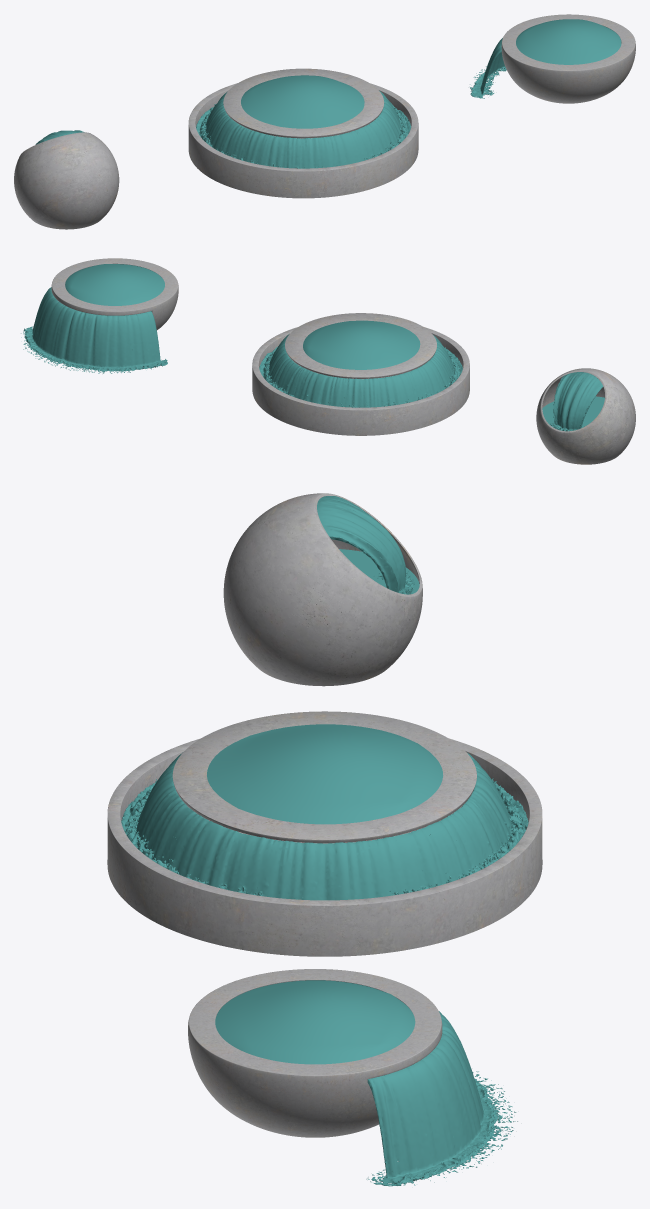
Rendered from waterfall-fountains.glb.
The picture shows the model from 3 angles, top to bottom: view 1: azimuth 30°, elevation 25°; view 2: azimuth 150°, elevation 25°; view 3: azimuth 270°, elevation 25°; orthographic projection. The views are drawn at different scales.
Visible parts, largest first — view 1: waterfall-fountains | Weathered concrete.001, waterfall-fountains | Pool water.002, waterfall-fountains | Pool water, waterfall-fountains | Pale stone basin, waterfall-fountains | Weathered concrete; view 2: waterfall-fountains | Pool water, waterfall-fountains | Pool water.002, waterfall-fountains | Pale stone basin, waterfall-fountains | Weathered concrete.001, waterfall-fountains | Weathered concrete, waterfall-fountains | Pool water.001; view 3: waterfall-fountains | Pool water, waterfall-fountains | Weathered concrete.001, waterfall-fountains | Pool water.002, waterfall-fountains | Pale stone basin, waterfall-fountains | Weathered concrete.
Part boxes in pixels (x1=…): waterfall-fountains | Weathered concrete.001: x1=223, y1=14, x2=635, y2=138; waterfall-fountains | Pool water.002: x1=241, y1=19, x2=621, y2=128; waterfall-fountains | Pool water: x1=35, y1=38, x2=506, y2=168; waterfall-fountains | Pale stone basin: x1=188, y1=83, x2=418, y2=198; waterfall-fountains | Weathered concrete: x1=14, y1=132, x2=119, y2=229; waterfall-fountains | Pool water: x1=21, y1=287, x2=603, y2=431; waterfall-fountains | Pool water.002: x1=65, y1=264, x2=420, y2=369; waterfall-fountains | Pale stone basin: x1=252, y1=327, x2=469, y2=435; waterfall-fountains | Weathered concrete.001: x1=51, y1=258, x2=436, y2=379; waterfall-fountains | Weathered concrete: x1=536, y1=368, x2=635, y2=464; waterfall-fountains | Pool water.001: x1=542, y1=396, x2=604, y2=429; waterfall-fountains | Pool water: x1=121, y1=496, x2=528, y2=1186; waterfall-fountains | Weathered concrete.001: x1=172, y1=711, x2=476, y2=1137; waterfall-fountains | Pool water.002: x1=207, y1=724, x2=443, y2=1064; waterfall-fountains | Pale stone basin: x1=107, y1=738, x2=542, y2=956; waterfall-fountains | Weathered concrete: x1=223, y1=493, x2=422, y2=686.
Bounding box in the file's own units: 3.65 × 0.4485 × 1.15.
Materials: 3 (2 with a texture image).
